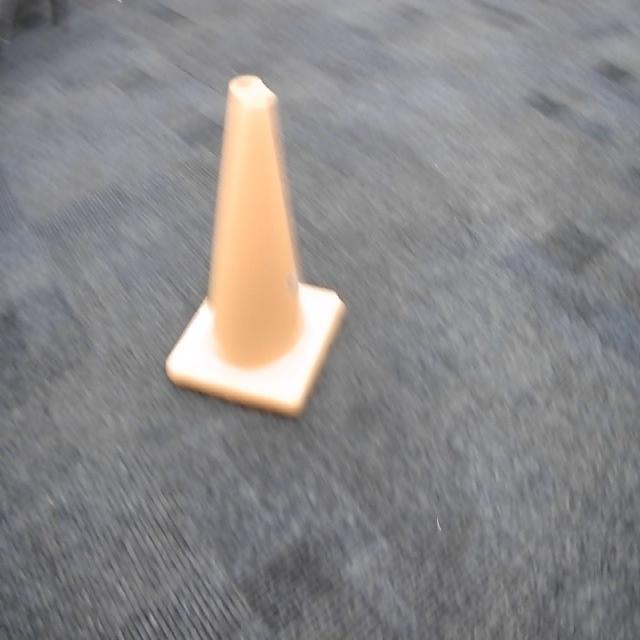cone: (165, 72, 344, 422)
